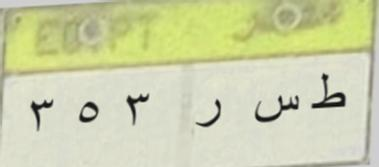3: (120, 86, 154, 132), (26, 91, 56, 136)
5: (73, 97, 104, 127)
Taa: (309, 70, 349, 117)
raa: (193, 90, 226, 134)
seen: (248, 82, 302, 131)
